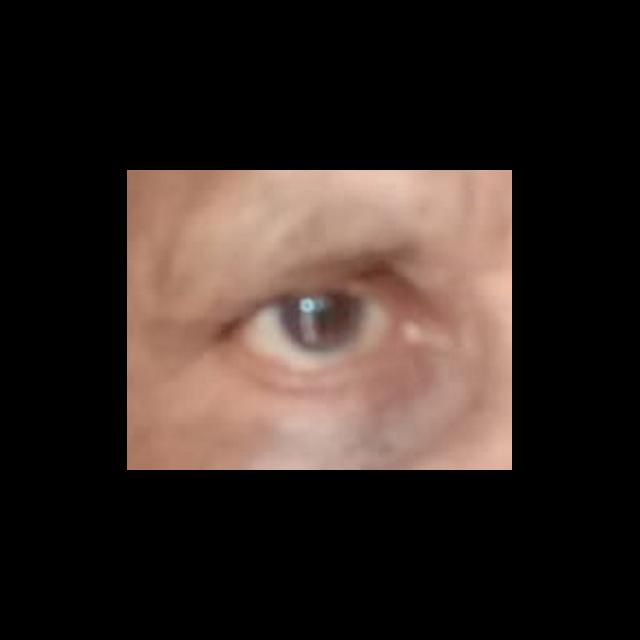eye: (242, 293, 384, 367)
iris: (281, 295, 364, 350)
